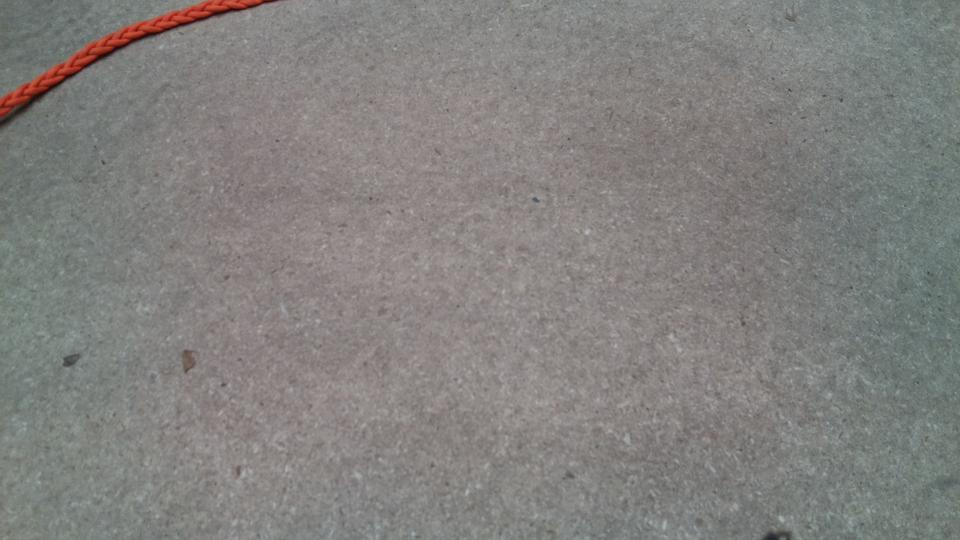rope: (1, 1, 243, 119)
